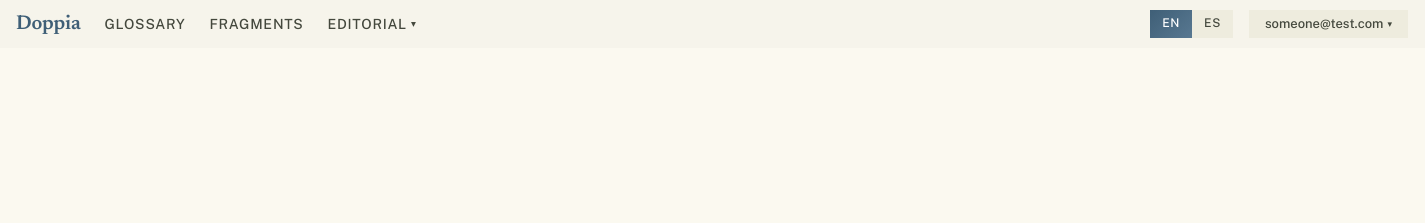
editorial menu › gives an admin the moderation queue and user management
Click the button "Editorial ▾".
click(372, 24)  # box [328,13,416,35]
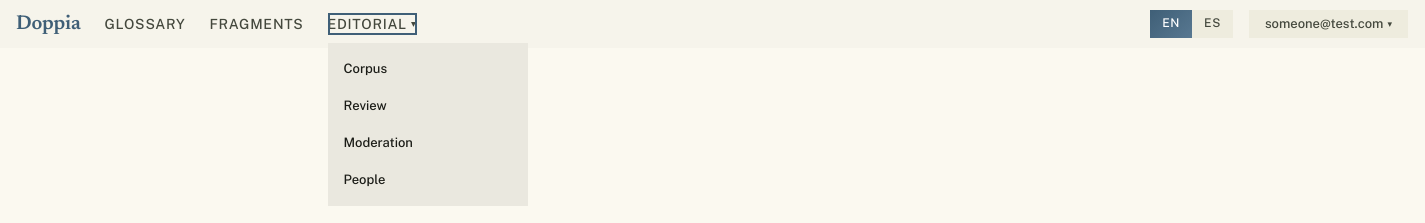
Now the menu item "Moderation" is shown, box [344,135,413,150]
Now the menu item "People" is shown, box [344,172,385,187]
Now the menu item "Review" is shown, box [344,98,387,113]
